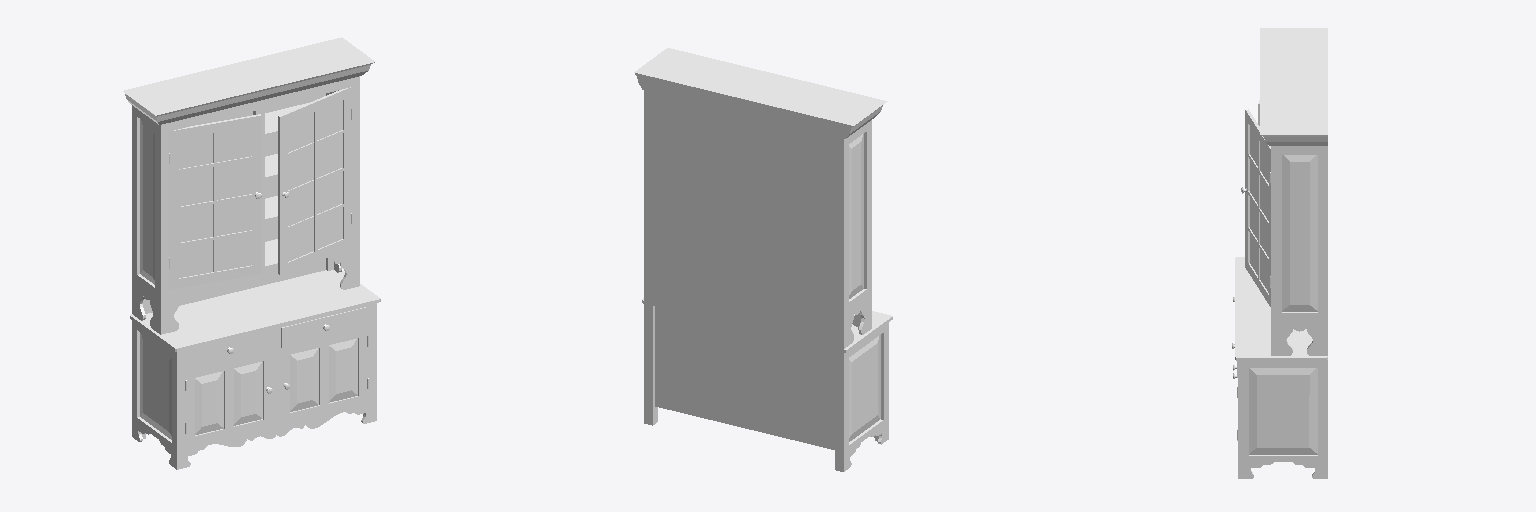
The model's file is cupboard01a.obj.
The picture shows the model from 3 angles: view 1: azimuth 30°, elevation 25°; view 2: azimuth 150°, elevation 25°; view 3: azimuth 270°, elevation 25°; orthographic projection.
Visible parts, largest first — view 1: LODGroup_1_MainMesh_1_Submesh_2, LODGroup_1_MainMesh_8_Submesh_3, LODGroup_1_MainMesh_9_Submesh_3, LODGroup_1_MainMesh_7_Submesh_2, LODGroup_1_MainMesh_6_Submesh_2, LODGroup_1_MainMesh_2_Submesh_2, LODGroup_1_MainMesh_3_Submesh_2, LODGroup_1_MainMesh_5_Submesh_2, LODGroup_1_MainMesh_4_Submesh_2; view 2: LODGroup_1_MainMesh_1_Submesh_2; view 3: LODGroup_1_MainMesh_1_Submesh_2, LODGroup_1_MainMesh_3_Submesh_2, LODGroup_1_MainMesh_9_Submesh_3.
Part boxes in pixels (x1,y1,x2,y2): LODGroup_1_MainMesh_1_Submesh_2: (123,37,380,469); LODGroup_1_MainMesh_8_Submesh_3: (179,126,251,277); LODGroup_1_MainMesh_9_Submesh_3: (288,100,342,261); LODGroup_1_MainMesh_7_Submesh_2: (281,330,368,420); LODGroup_1_MainMesh_6_Submesh_2: (185,353,272,444); LODGroup_1_MainMesh_2_Submesh_2: (169,114,261,289); LODGroup_1_MainMesh_3_Submesh_2: (278,87,351,274); LODGroup_1_MainMesh_5_Submesh_2: (281,307,367,347); LODGroup_1_MainMesh_4_Submesh_2: (186,330,271,370); LODGroup_1_MainMesh_1_Submesh_2: (634,48,892,471); LODGroup_1_MainMesh_1_Submesh_2: (1235,28,1327,478); LODGroup_1_MainMesh_3_Submesh_2: (1241,109,1270,306); LODGroup_1_MainMesh_9_Submesh_3: (1250,127,1268,292).
Bounding box in the file's own units: 150 × 227 × 56.85.